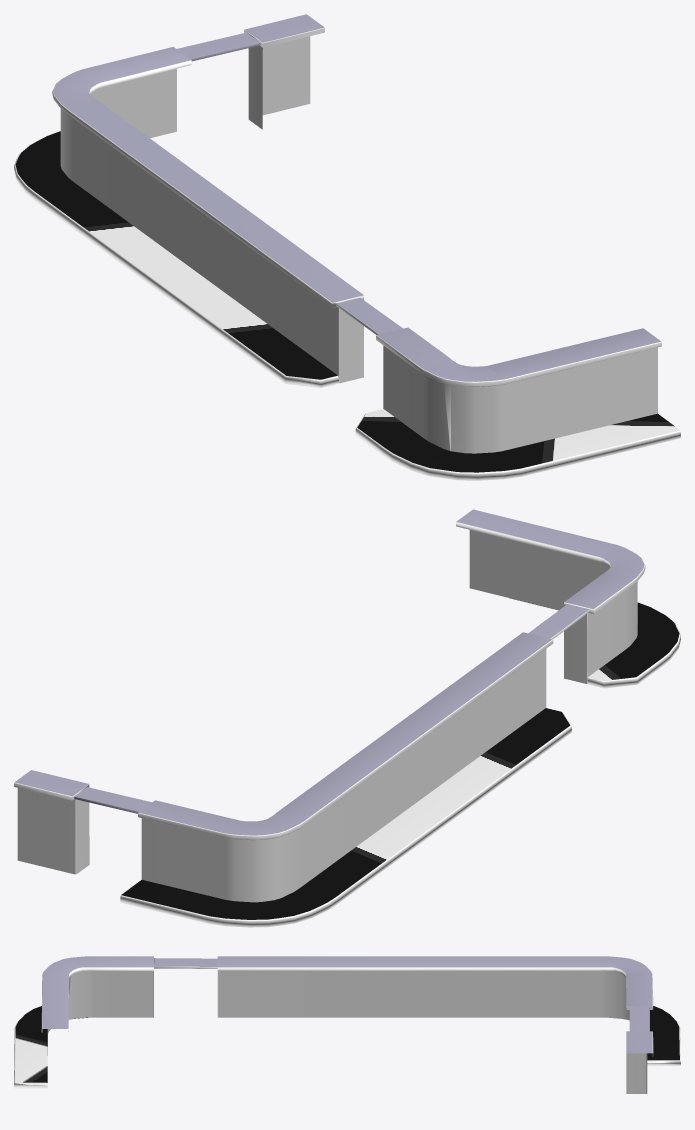
Rendered from Counter_Final.fbx.
3 renders of one model, top to bottom at view 1: azimuth 30°, elevation 25°; view 2: azimuth 150°, elevation 25°; view 3: azimuth 270°, elevation 25°, orthographic. The views are drawn at different scales.
Visible parts, largest first — view 1: Diner_counter.002; view 2: Diner_counter.002; view 3: Diner_counter.002.
Boxes of the visible parts, left/top/right/bottom form: Diner_counter.002: left=14, top=14, right=680, bottom=480; Diner_counter.002: left=14, top=509, right=680, bottom=927; Diner_counter.002: left=14, top=956, right=680, bottom=1093.
Bounding box in the file's own units: 4.41 × 1.18 × 11.4.
Materials: 4 (1 with a texture image).
